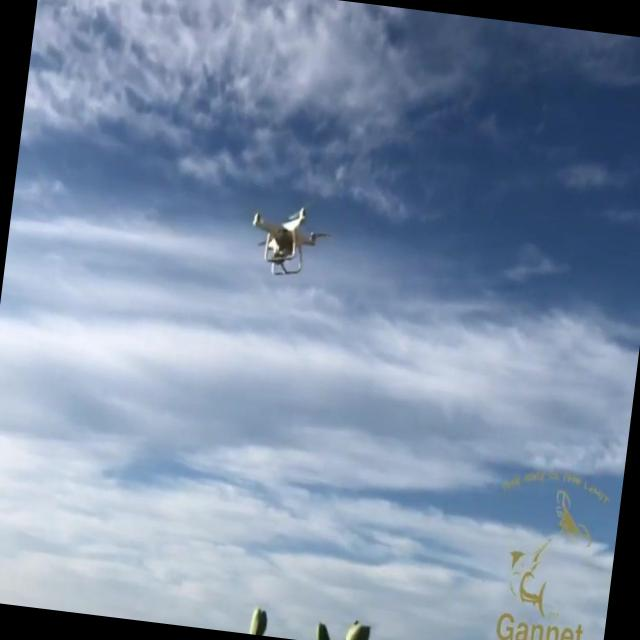drone: (245, 198, 329, 284)
